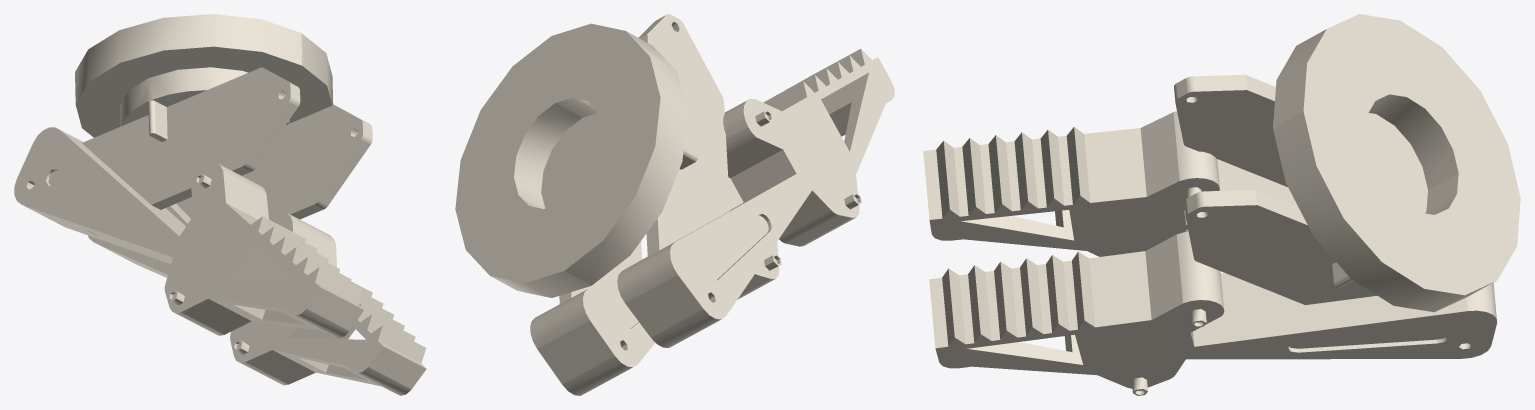
File: robot-head.glb
3 renders of one model, left to right at view 1: azimuth 30°, elevation 25°; view 2: azimuth 150°, elevation 25°; view 3: azimuth 270°, elevation 25°, orthographic. The views are drawn at different scales.
Visible parts, largest first — view 1: robot-tool-part-7, robot-tool-part-9, robot-tool-part-8; view 2: robot-tool-part-7, robot-tool-part-9, robot-tool-part-8; view 3: robot-tool-part-7, robot-tool-part-8, robot-tool-part-9.
Boxes of the visible parts, x1,y1,x2,y2 form: robot-tool-part-7: (75,14,372,235); robot-tool-part-9: (14,127,363,338); robot-tool-part-8: (88,203,426,395); robot-tool-part-7: (455,14,729,303); robot-tool-part-9: (617,49,894,347); robot-tool-part-8: (530,177,781,395); robot-tool-part-7: (1174,14,1520,312); robot-tool-part-8: (929,229,1497,395); robot-tool-part-9: (923,111,1297,256).
Size of the model in its own units: 84.96 by 92.53 by 137.
